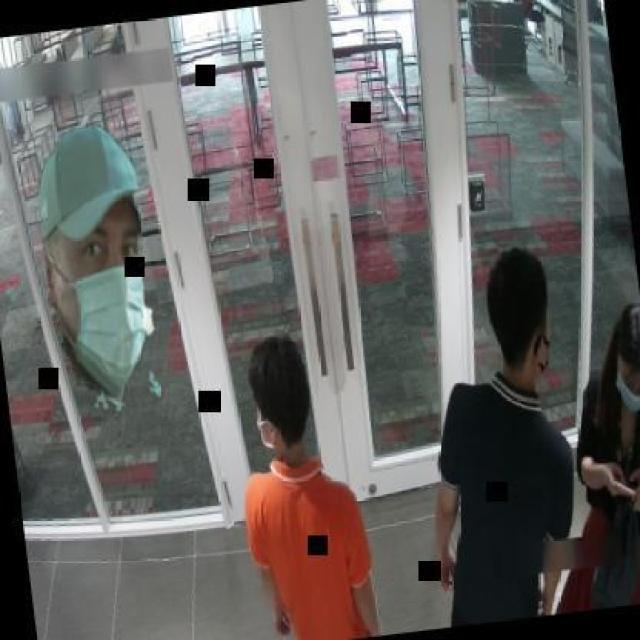hairnet: (611, 371, 640, 416)
